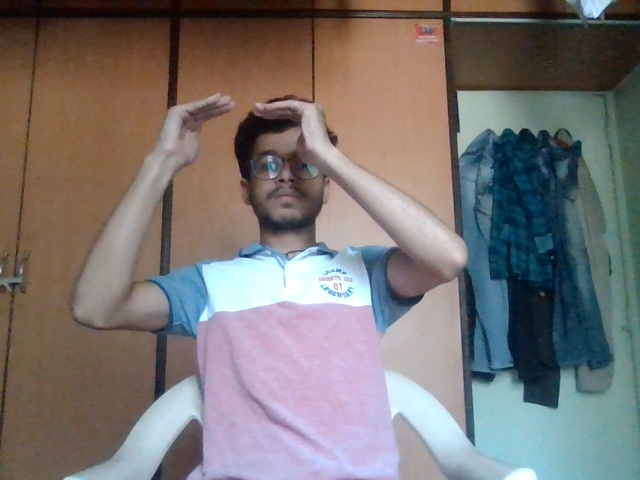afternoon: (147, 90, 360, 172)
